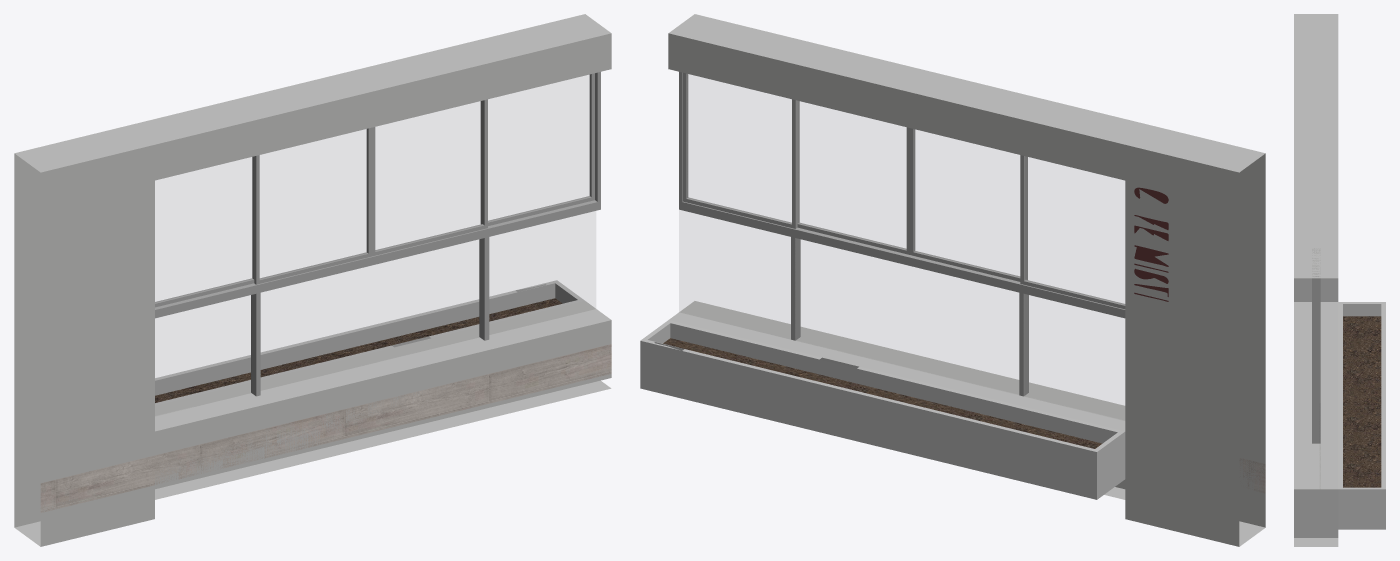
Rendered from well_cafe.fbx.
3 renders of one model, left to right at view 1: azimuth 30°, elevation 25°; view 2: azimuth 150°, elevation 25°; view 3: azimuth 270°, elevation 25°, orthographic. The views are drawn at different scales.
Parts seen in each view (by area): view 1: polySurface4859; view 2: polySurface4859; view 3: polySurface4859.
Boxes of the visible parts, left/top/right/bottom form: polySurface4859: left=14, top=14, right=611, bottom=546; polySurface4859: left=640, top=14, right=1265, bottom=546; polySurface4859: left=1294, top=14, right=1385, bottom=546.
Size of the model in its own units: 500 by 313 by 82.75.
